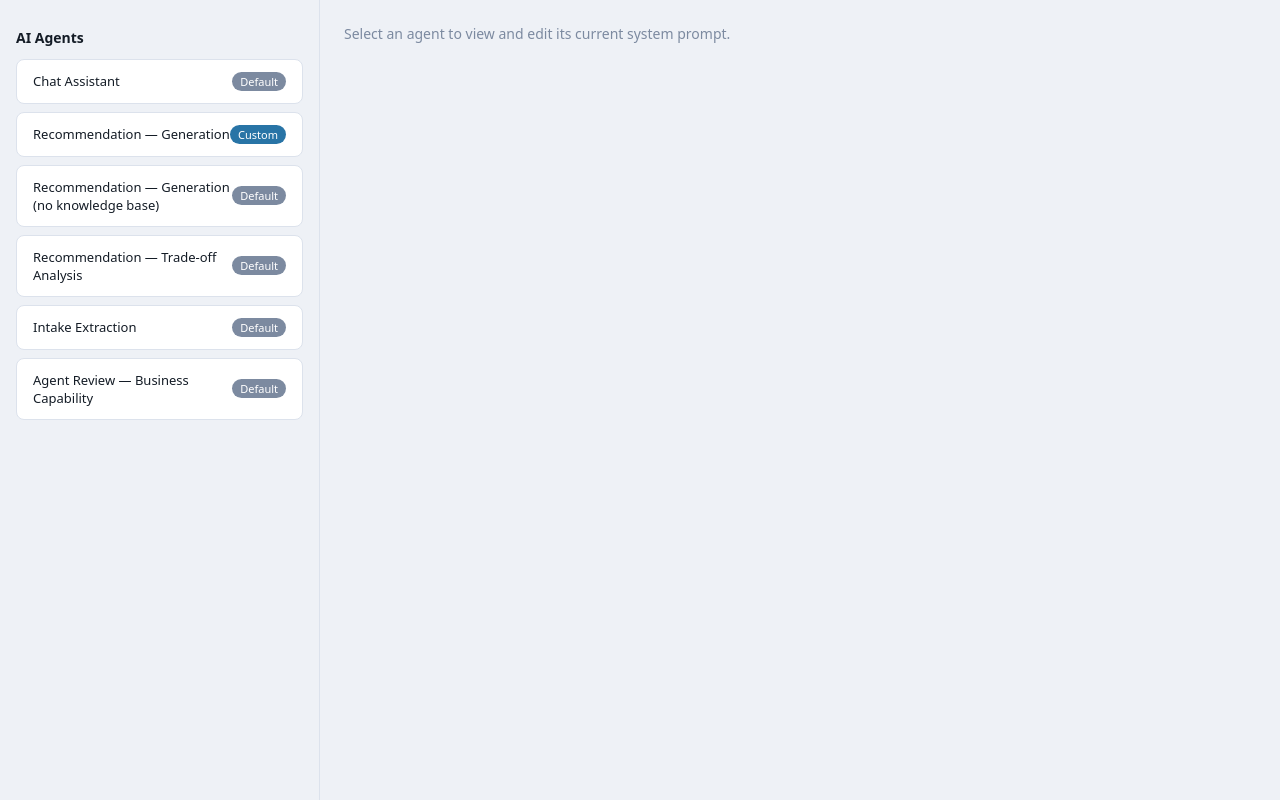
AdminPage › shows the full prompt text and override badge when an agent is selected
Click the element showing "Recommendation — Generation Custom". click: (160, 134)
box: [16,112,303,157]
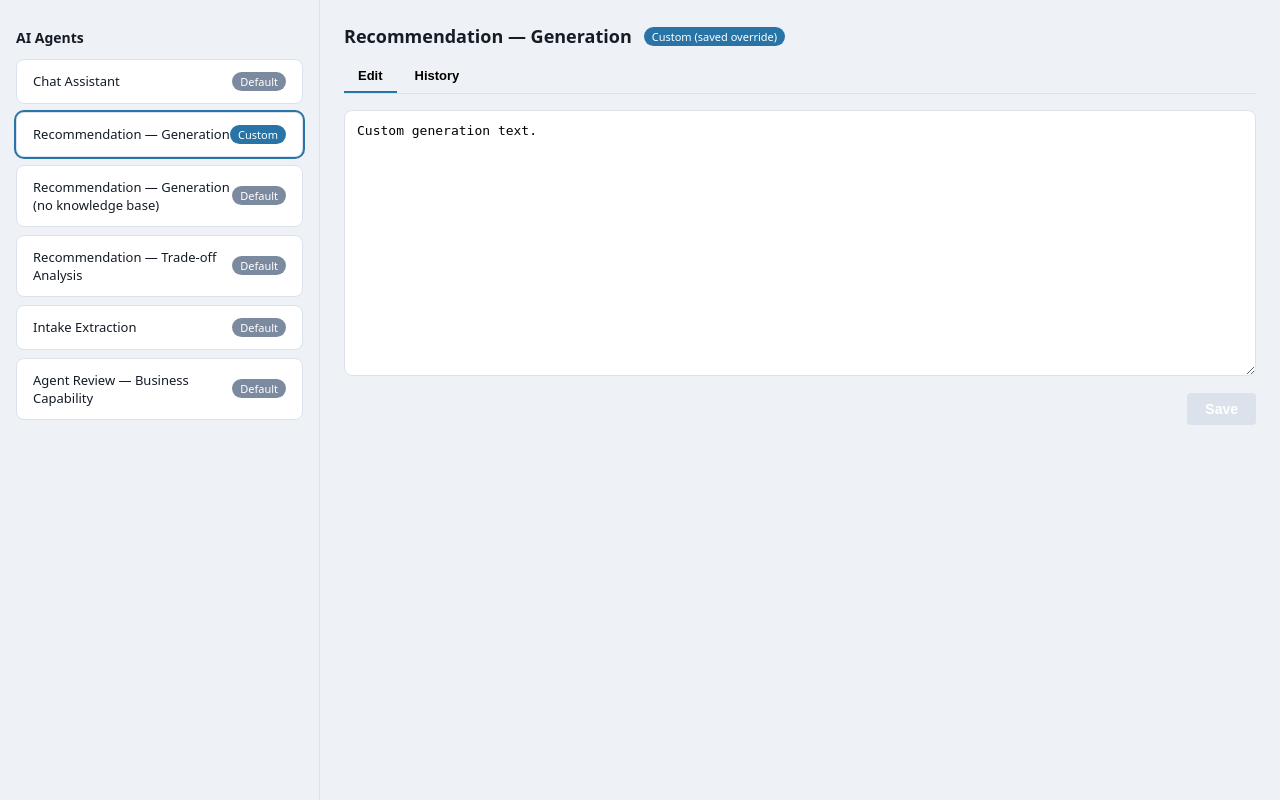
Now the text box showing "Custom generation text." is shown, box [344,110,1256,376]
Now the text "Custom (saved override)" is shown, box [644,26,785,46]
